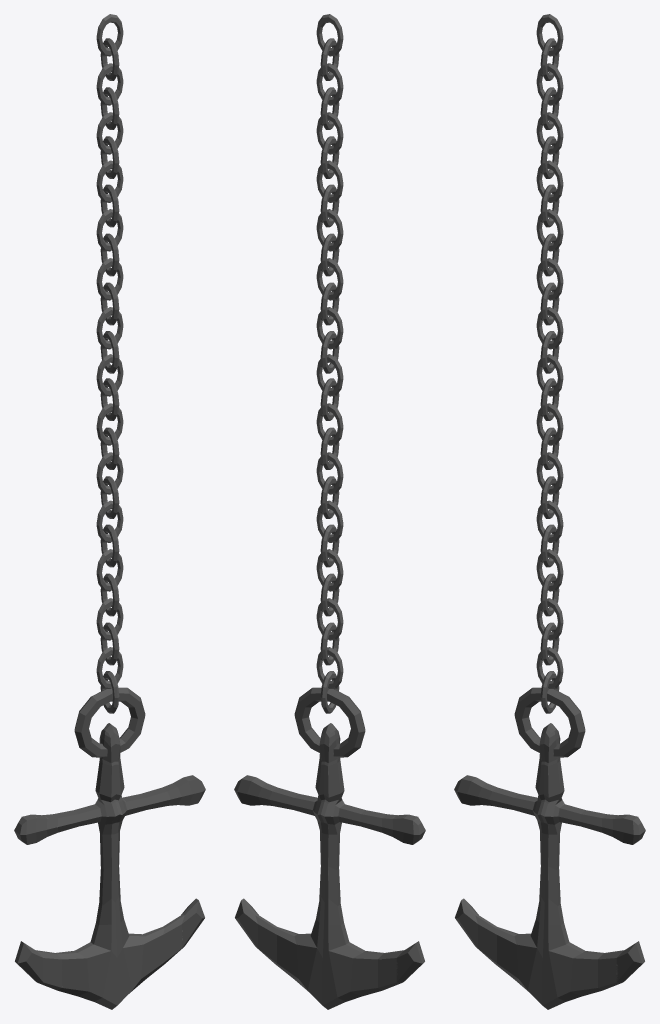
The model's file is AnchorAndChain.fbx.
3 views of the same model, side by side, from view 1: azimuth 30°, elevation 25°; view 2: azimuth 150°, elevation 25°; view 3: azimuth 330°, elevation 25° (orthographic).
Parts seen in each view (by area): view 1: Anchor, Chain; view 2: Anchor, Chain; view 3: Anchor, Chain.
Part boxes in pixels (x1,y1,x2,y2): Anchor: [14, 687, 205, 1009]; Chain: [96, 14, 123, 713]; Anchor: [234, 687, 425, 1009]; Chain: [316, 14, 343, 713]; Anchor: [454, 687, 645, 1009]; Chain: [536, 14, 563, 713].
Size of the model in its own units: 349 by 1767 by 58.35.
